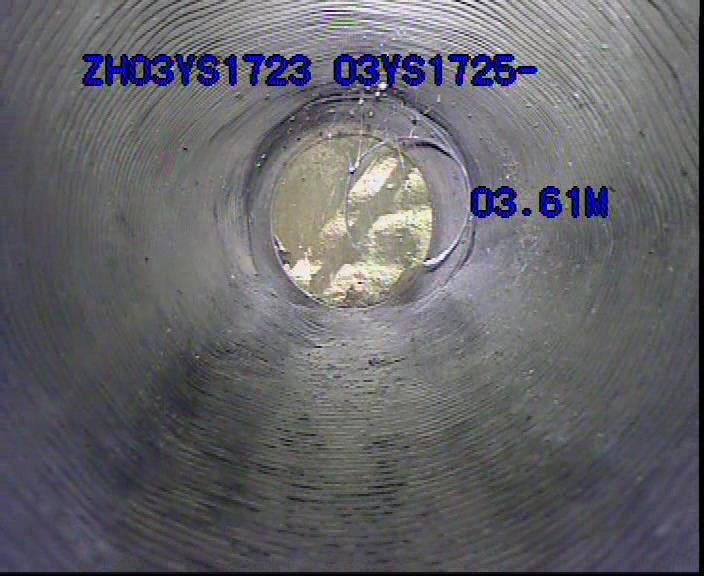JKCL: (302, 87, 489, 277)
